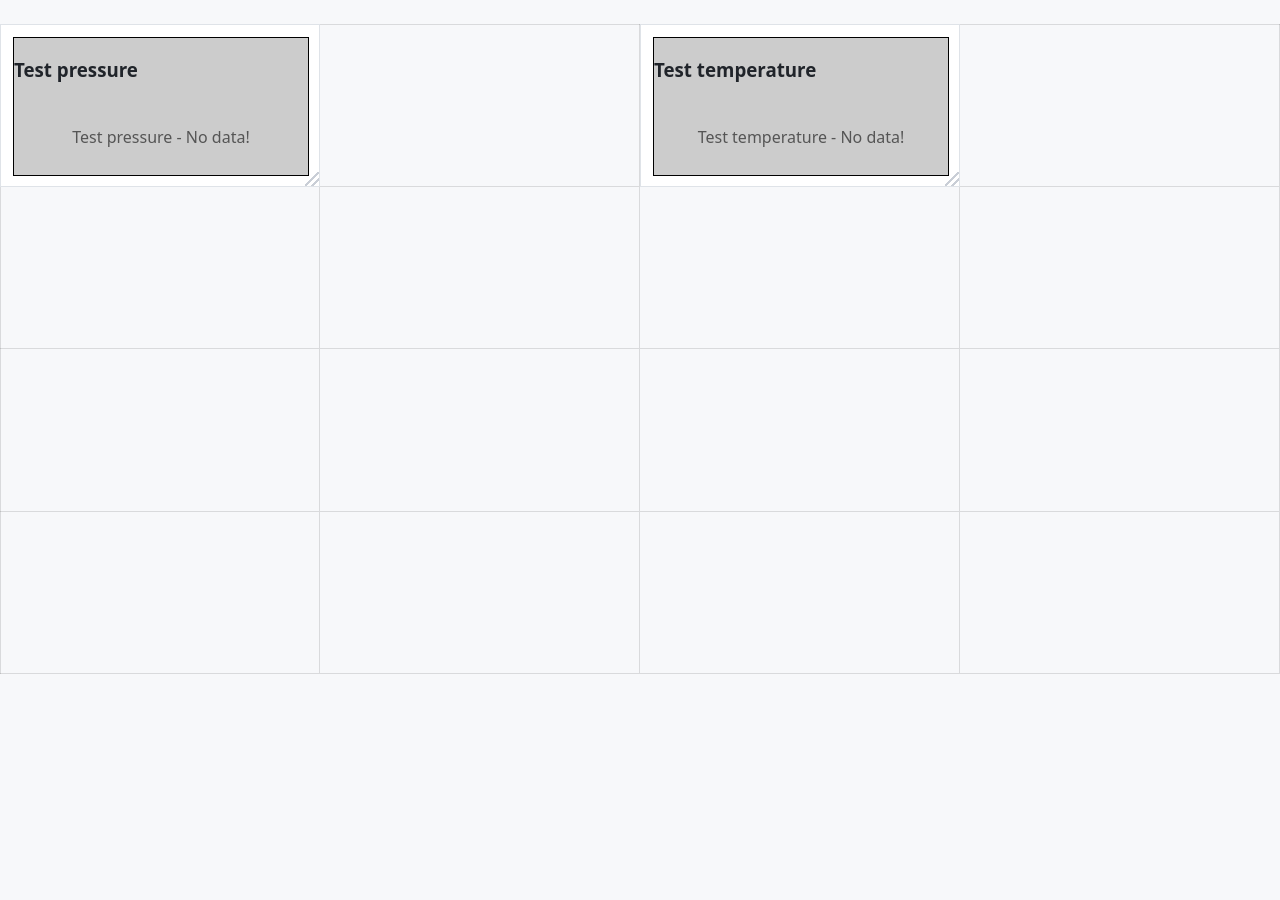
DashboardGrid › moving › does not start a move from a resize handle
The image size is (1280, 900).
Press the mouse on the element named "Drag to resize" below "Test pressure - No data!" at (312, 178), box [305,172,319,186]
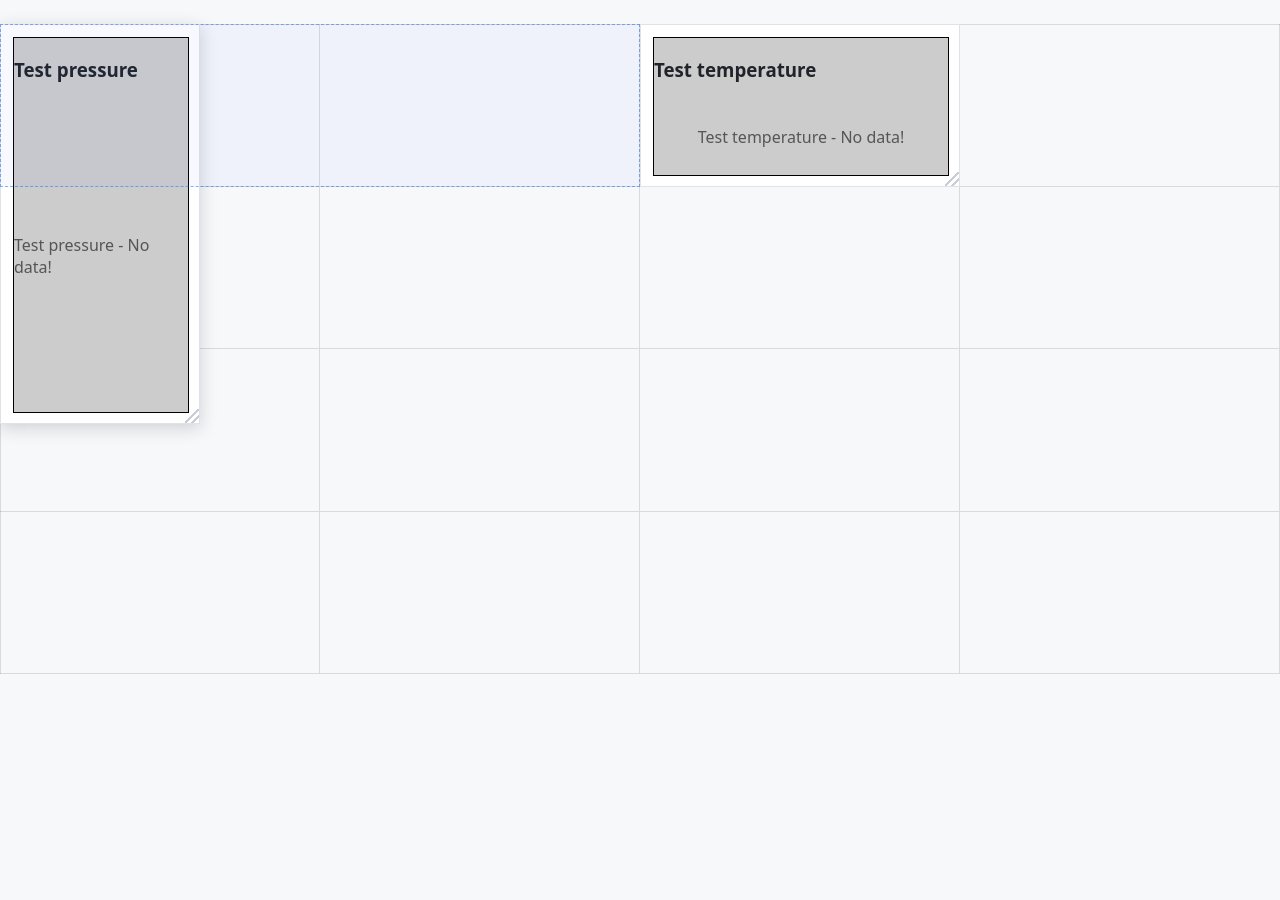
Now the element with test id "resize-preview" is shown, box [0,24,640,186]
